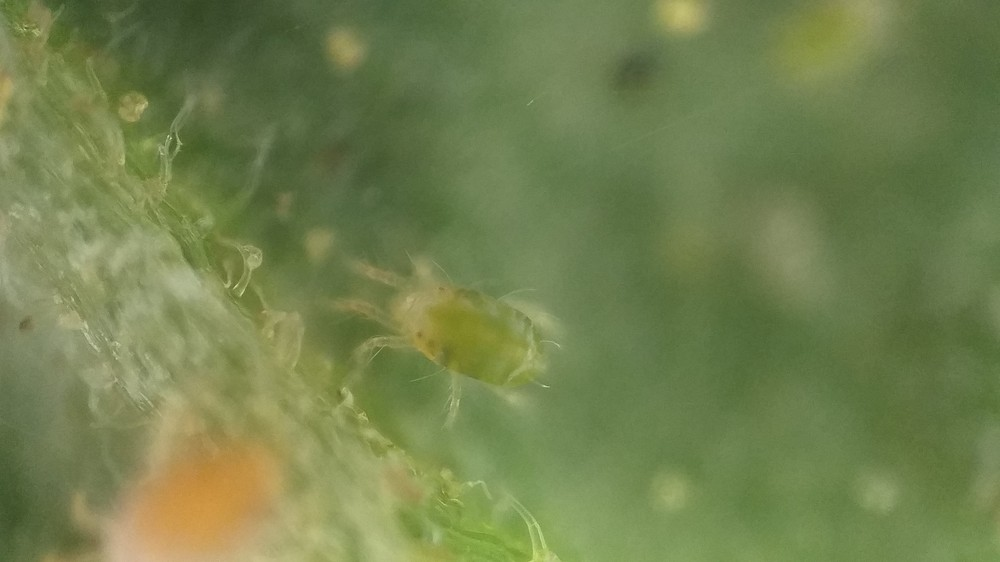Aracnido Rojo: (334, 245, 577, 414)
